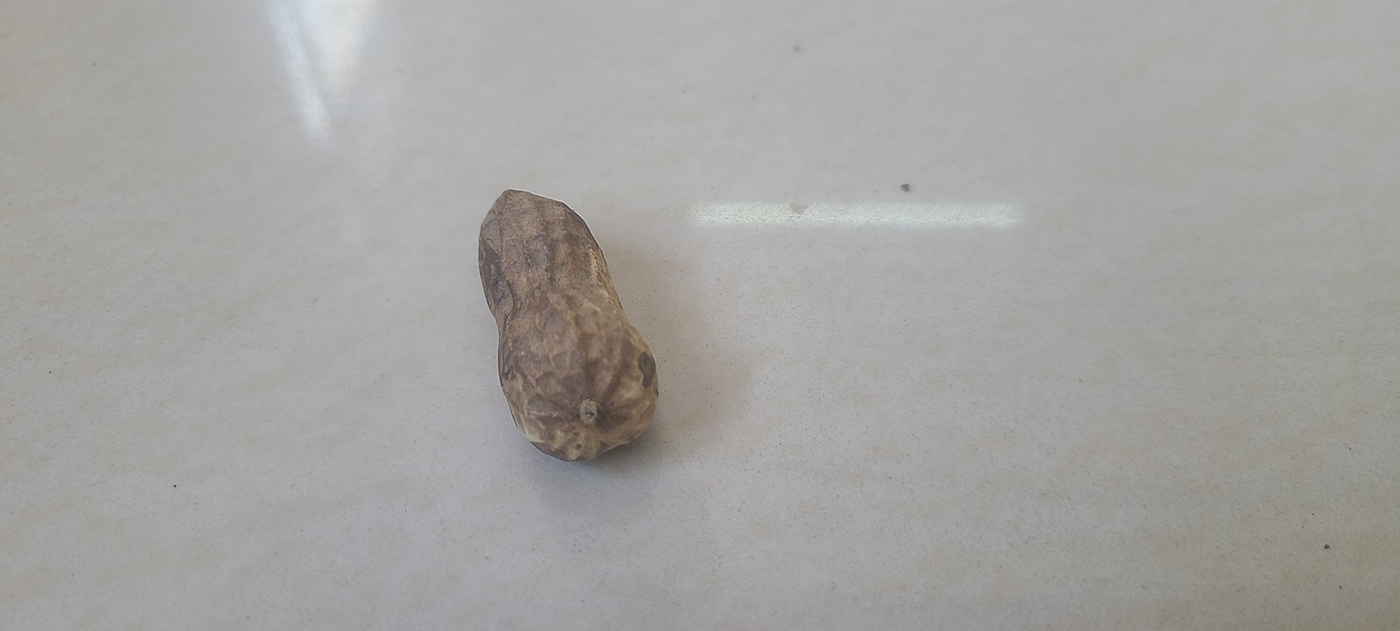l: (474, 186, 660, 462)
